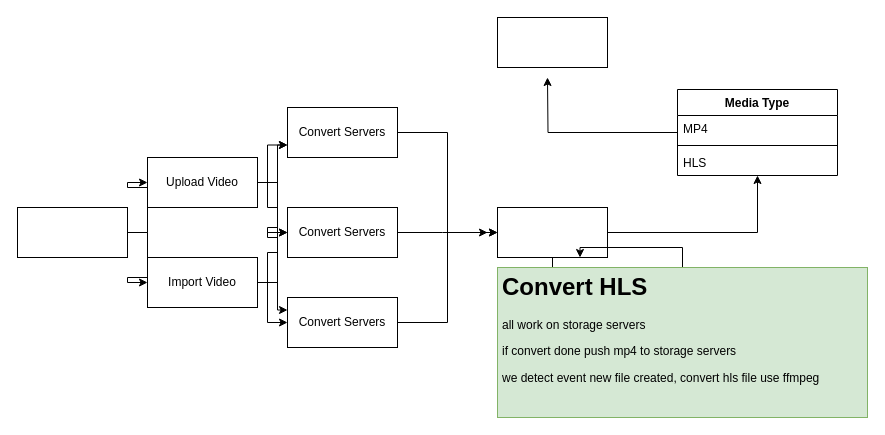
Image size: 885x435. Some labels were removed from this diagram. The centre of each missing label's shape, as x and y in pixels:
"Site" goes at pixel 72 232.
"Storage Servers" goes at pixel 552 232.
"visitor" goes at pixel 552 42.
